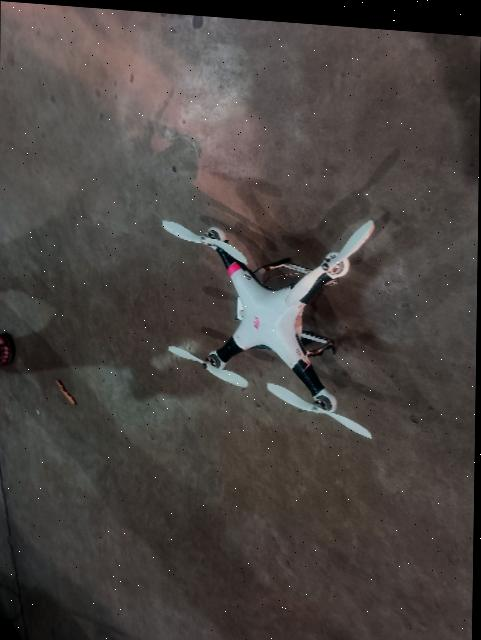drone: (118, 174, 431, 449)
